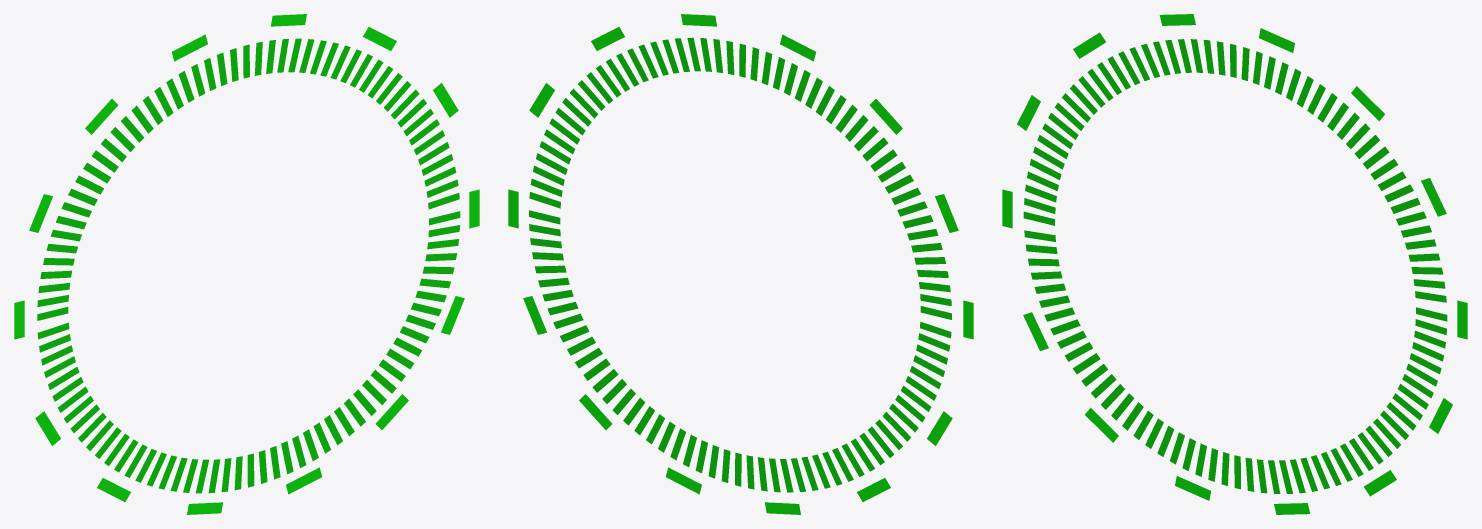
Rendered from green_mid.glb.
3 renders of one model, left to right at view 1: azimuth 30°, elevation 25°; view 2: azimuth 150°, elevation 25°; view 3: azimuth 330°, elevation 25°, orthographic.
Visible parts, largest first — view 1: Circlespeed01_baked003_22; view 2: Circlespeed01_baked003_22; view 3: Circlespeed01_baked003_22.
Part boxes in pixels (x1,y1,x2,y2): Circlespeed01_baked003_22: (14,14,479,514); Circlespeed01_baked003_22: (508,14,973,514); Circlespeed01_baked003_22: (1002,14,1467,514).
Size of the model in its own units: 3.37 by 3.36 by 0.00762.
